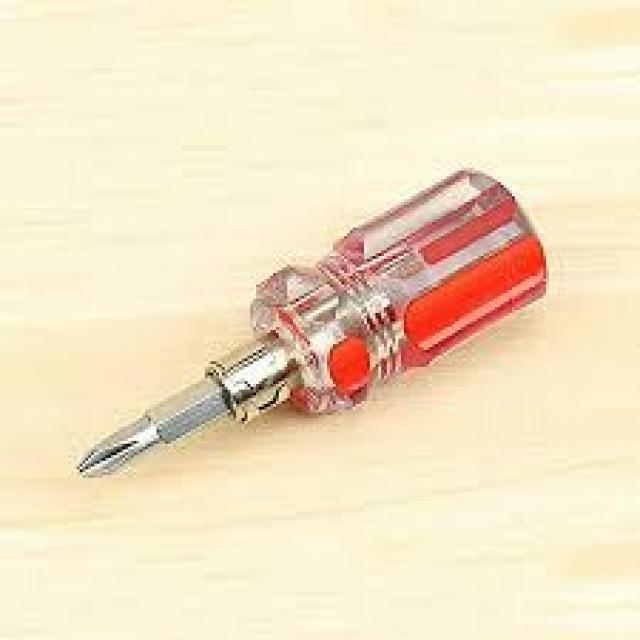screwdriver: (72, 168, 554, 481)
